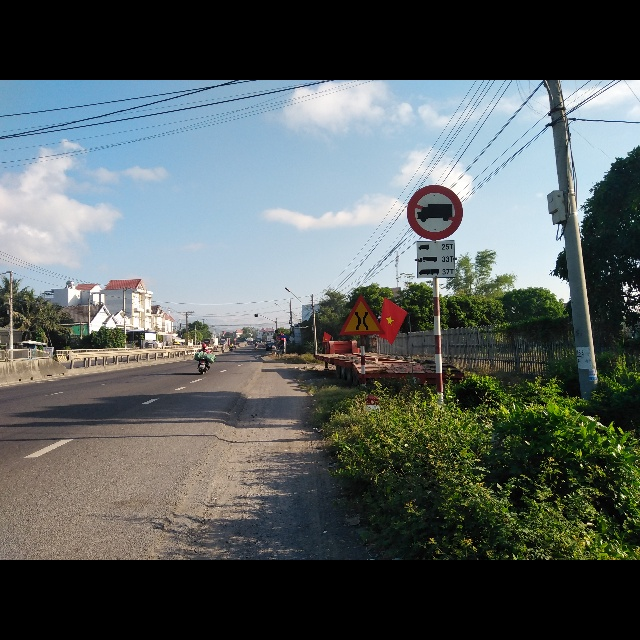Cấm xe tải: (405, 181, 466, 240)
Cầu hẹp: (337, 295, 383, 337)
